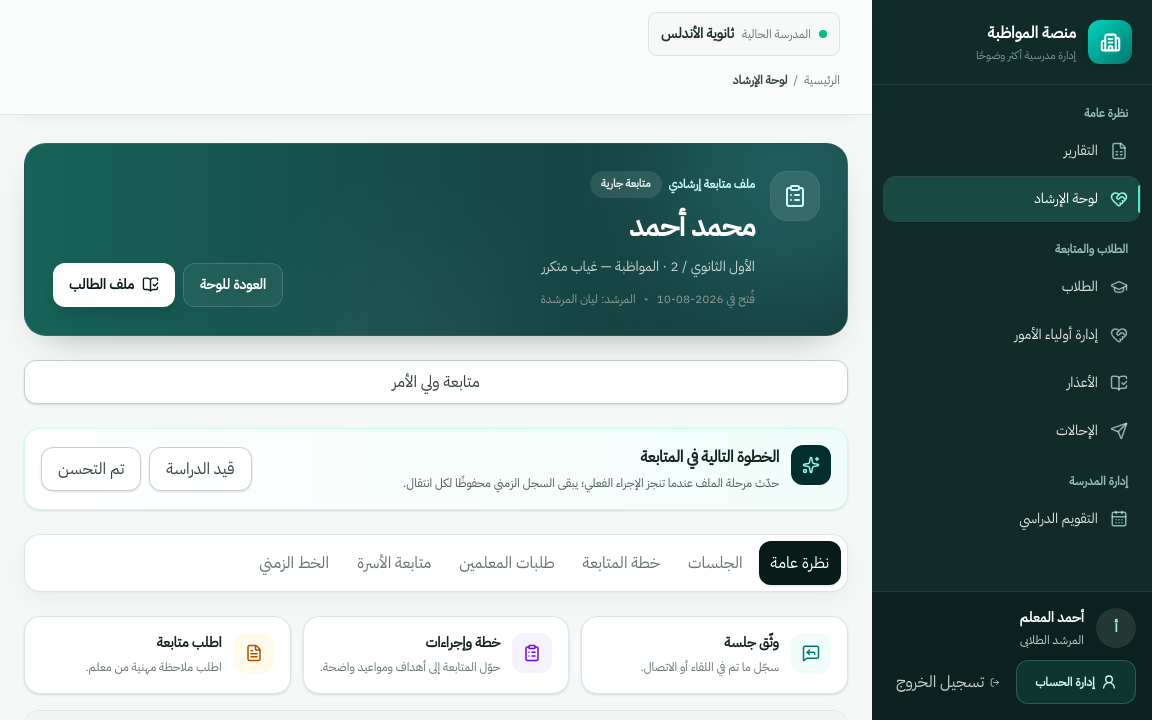
Scenario: case detail (Phase 14) › shows the professional observation and outcome in the session record
Click the tab "الجلسات" at [715, 562], box [676,540,754,584]
(page scrolled)
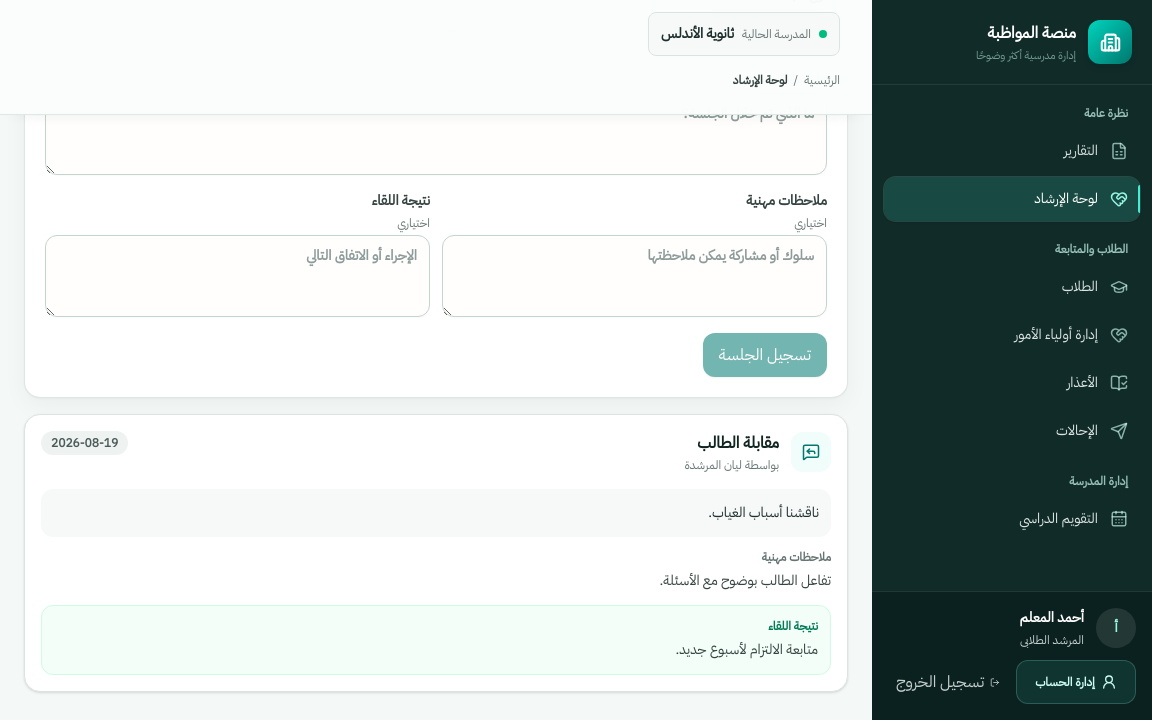
Check: the list item with test id "session-17" shows "تفاعل الطالب بوضوح مع الأسئلة", box [660,570,831,590]
Check: the list item with test id "session-17" shows "متابعة الالتزام لأسبوع جديد", box [675,638,818,660]
